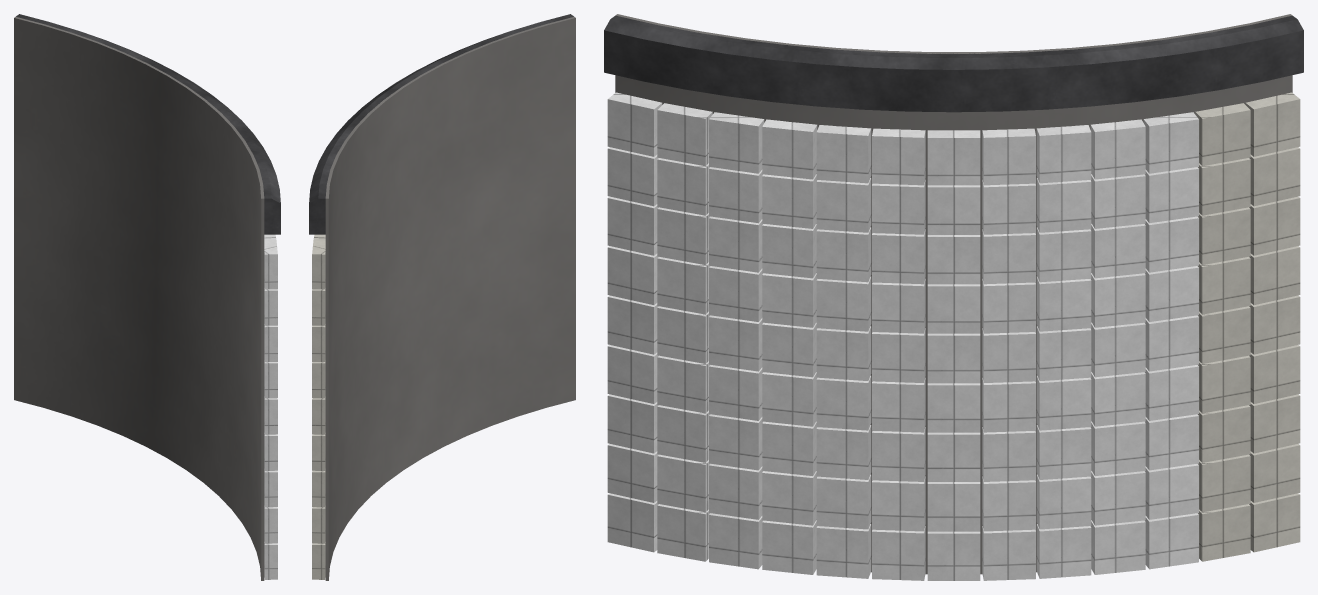
Rendered from jet11_tps_tiles_l.glb.
The picture shows the model from 3 angles, left to right: view 1: azimuth 30°, elevation 25°; view 2: azimuth 150°, elevation 25°; view 3: azimuth 270°, elevation 25°; orthographic projection. The views are drawn at different scales.
Parts seen in each view (by area): view 1: substrate, rcc_edge, tile_r08_c00, tile_r00_c00, tile_r01_c00, tile_r03_c00, tile_r04_c00, tile_r07_c00, tile_r06_c00, tile_r05_c00, tile_r02_c00; view 2: substrate, rcc_edge, tile_r08_c12, tile_r00_c12, tile_r01_c12, tile_r03_c12, tile_r04_c12, tile_r07_c12, tile_r06_c12, tile_r05_c12, tile_r02_c12; view 3: rcc_edge, substrate, tile_r08_c04, tile_r08_c08, tile_r08_c03, tile_r08_c09, tile_r08_c06, tile_r08_c02, tile_r08_c10, tile_r08_c05, tile_r08_c07, tile_r08_c01 (+107 smaller).
Boxes of the visible parts, left/top/right/bottom form: substrate: left=14, top=16, right=264, bottom=580; rcc_edge: left=16, top=14, right=280, bottom=234; tile_r08_c00: left=264, top=238, right=277, bottom=289; tile_r00_c00: left=264, top=541, right=277, bottom=579; tile_r01_c00: left=264, top=505, right=277, bottom=543; tile_r03_c00: left=264, top=432, right=277, bottom=470; tile_r04_c00: left=264, top=396, right=277, bottom=434; tile_r07_c00: left=264, top=287, right=277, bottom=325; tile_r06_c00: left=264, top=324, right=277, bottom=361; tile_r05_c00: left=264, top=360, right=277, bottom=398; tile_r02_c00: left=264, top=469, right=277, bottom=507; substrate: left=325, top=16, right=575, bottom=580; rcc_edge: left=309, top=14, right=573, bottom=234; tile_r08_c12: left=312, top=238, right=325, bottom=289; tile_r00_c12: left=312, top=541, right=325, bottom=579; tile_r01_c12: left=312, top=505, right=325, bottom=543; tile_r03_c12: left=312, top=432, right=325, bottom=470; tile_r04_c12: left=312, top=396, right=325, bottom=434; tile_r07_c12: left=312, top=287, right=325, bottom=325; tile_r06_c12: left=312, top=324, right=325, bottom=361; tile_r05_c12: left=312, top=360, right=325, bottom=398; tile_r02_c12: left=312, top=469, right=325, bottom=507; rcc_edge: left=604, top=15, right=1303, bottom=112; substrate: left=615, top=14, right=1292, bottom=574; tile_r08_c04: left=816, top=125, right=871, bottom=183; tile_r08_c08: left=1036, top=125, right=1091, bottom=183; tile_r08_c03: left=762, top=119, right=817, bottom=179; tile_r08_c09: left=1090, top=119, right=1145, bottom=179; tile_r08_c06: left=927, top=130, right=980, bottom=185; tile_r08_c02: left=709, top=112, right=764, bottom=173; tile_r08_c10: left=1143, top=112, right=1198, bottom=173; tile_r08_c05: left=872, top=128, right=925, bottom=185; tile_r08_c07: left=982, top=128, right=1035, bottom=185; tile_r08_c01: left=657, top=103, right=712, bottom=166.
Bounding box in the file's own units: 0.3262 × 1.6 × 1.95.
4 materials, 4 textured.
